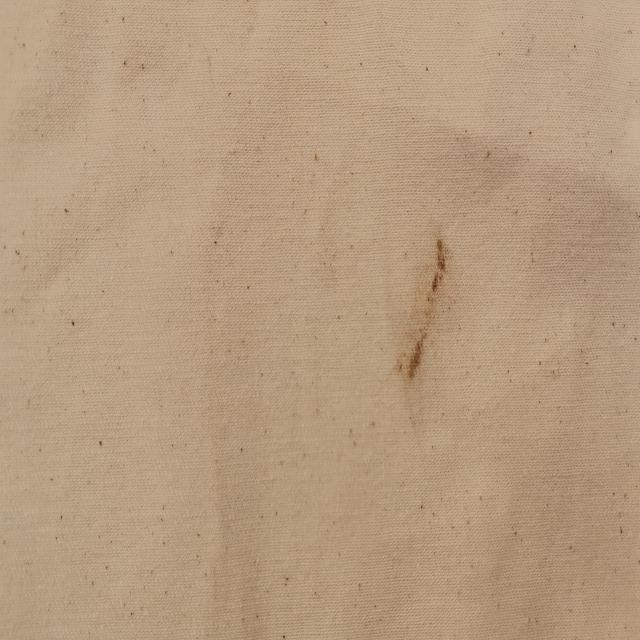taaaches: (392, 228, 453, 396)
